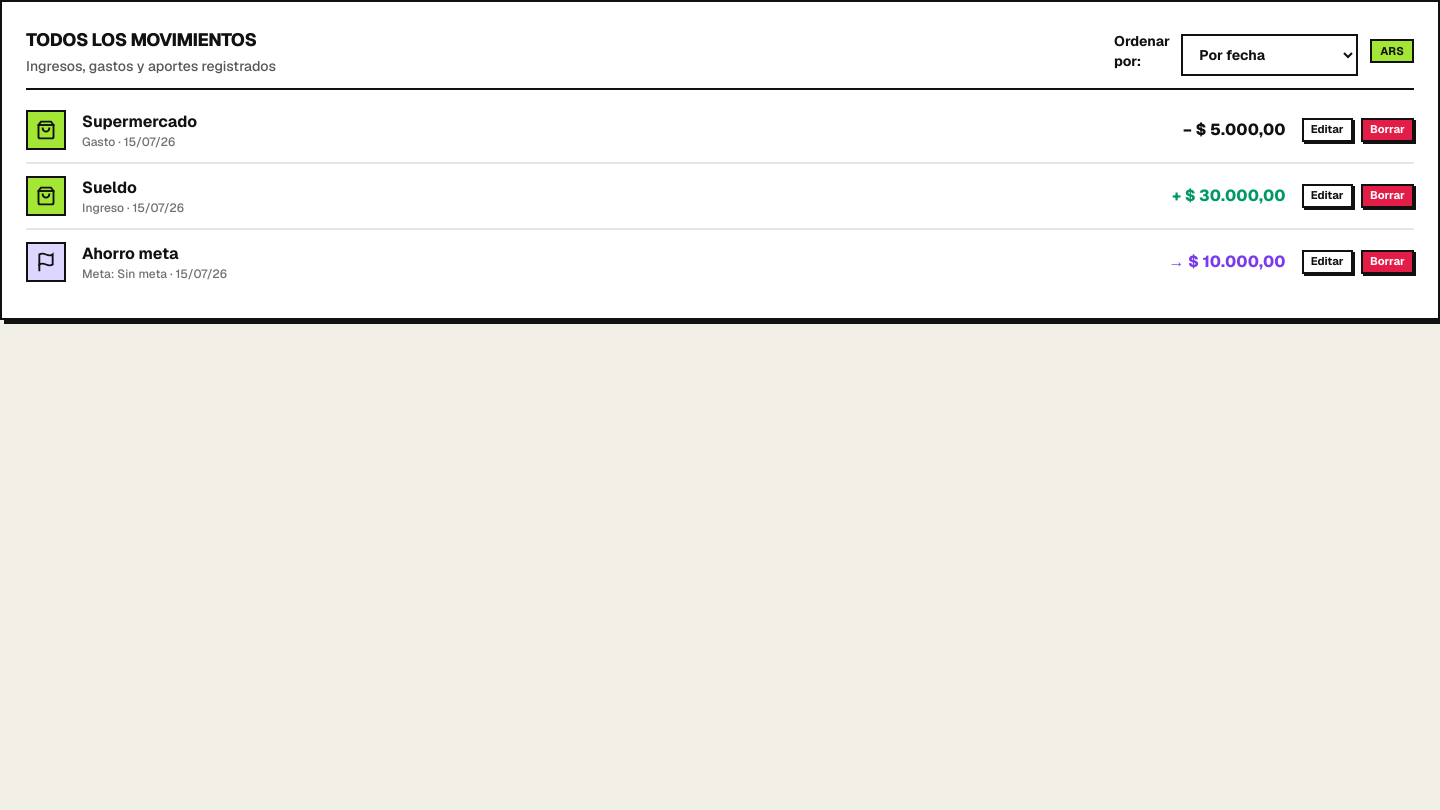
Test case: MovementsList › flujo de borrar: Cancelar cierra el diálogo sin eliminar
Expected: the text "Supermercado" is shown, left=82, top=111, right=197, bottom=132
Click the button "Borrar" in the row of "Supermercado".
click(1387, 130)  # box left=1361, top=118, right=1414, bottom=142
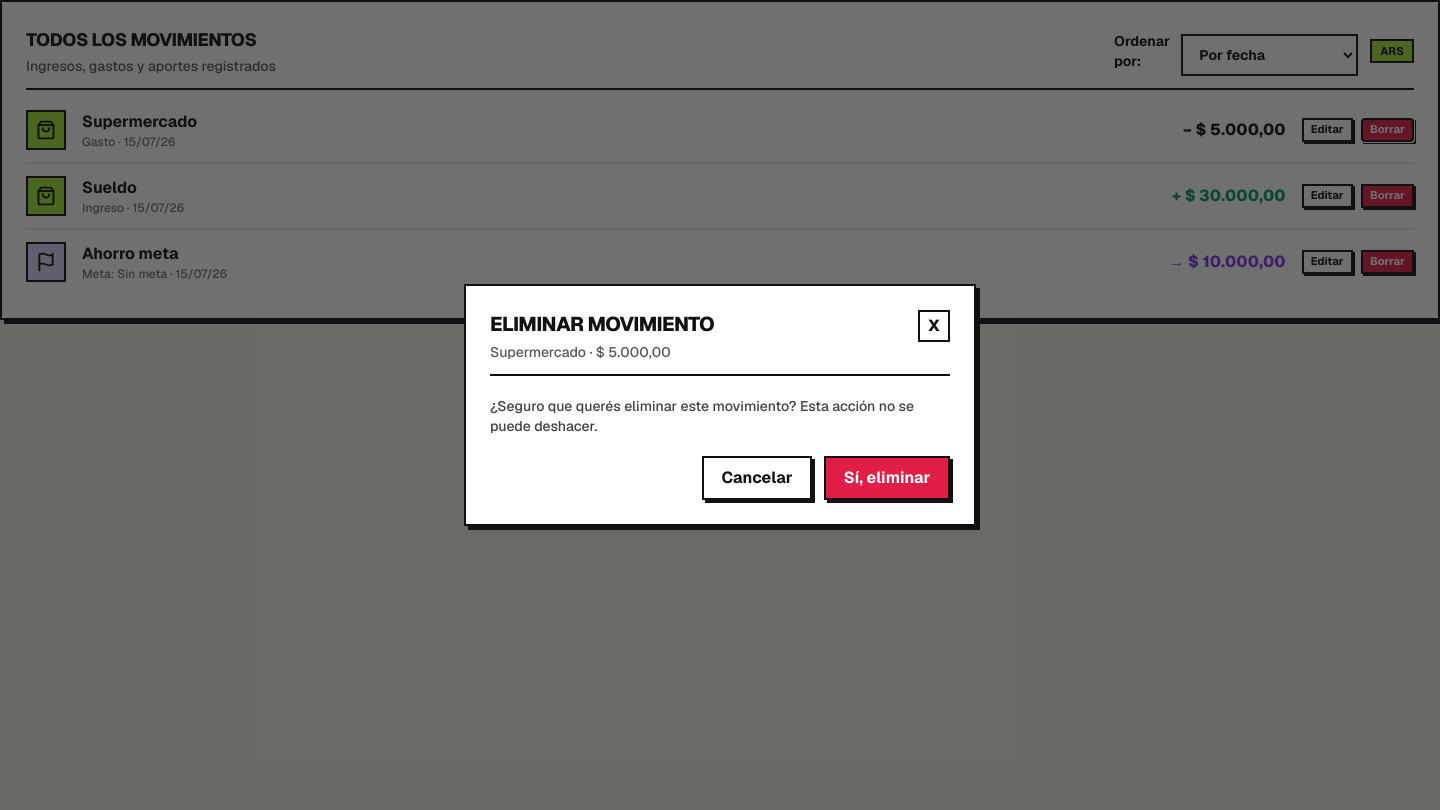
Now the dialog is shown
Click the button "Cancelar".
click(757, 478)  # box left=702, top=456, right=812, bottom=500
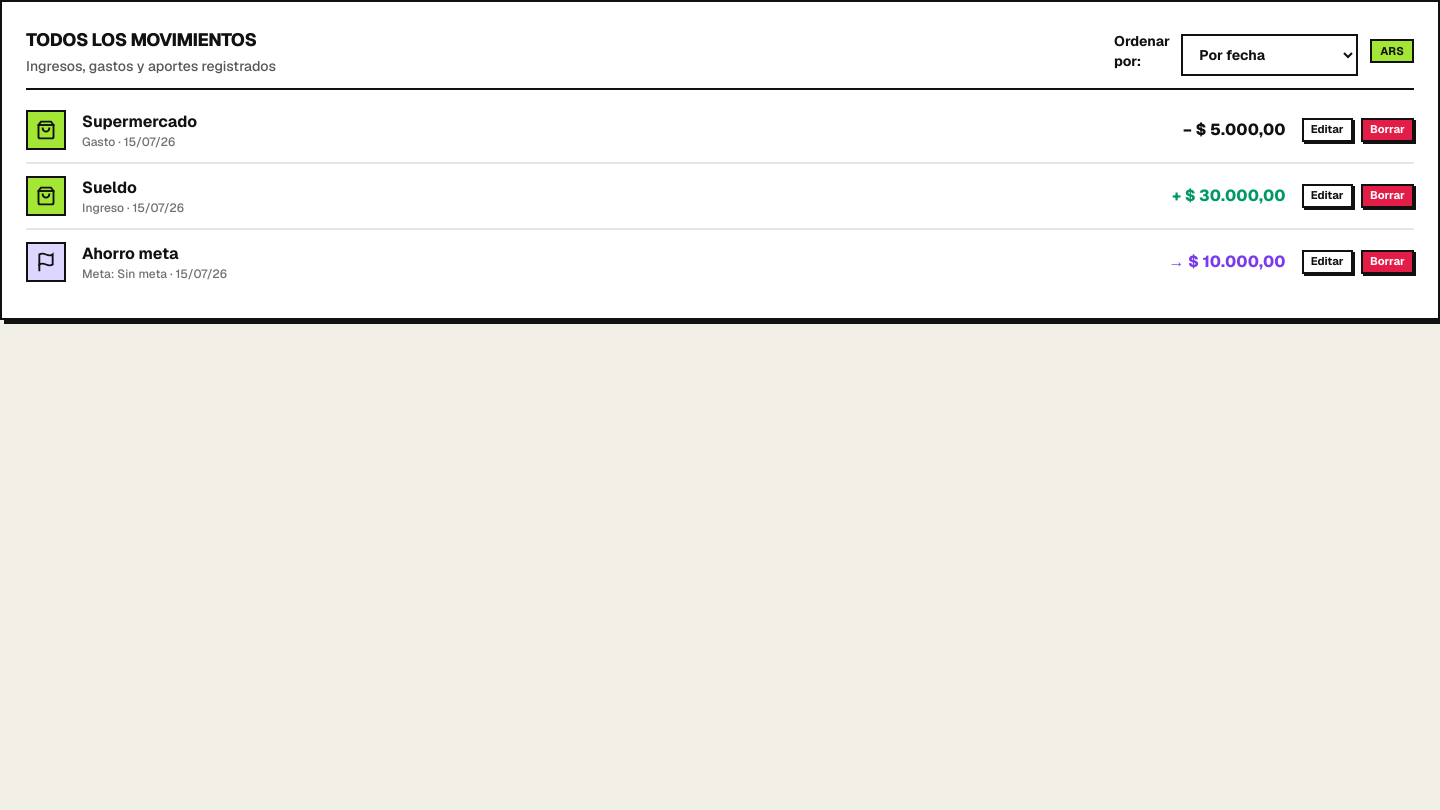
Now the dialog is gone
